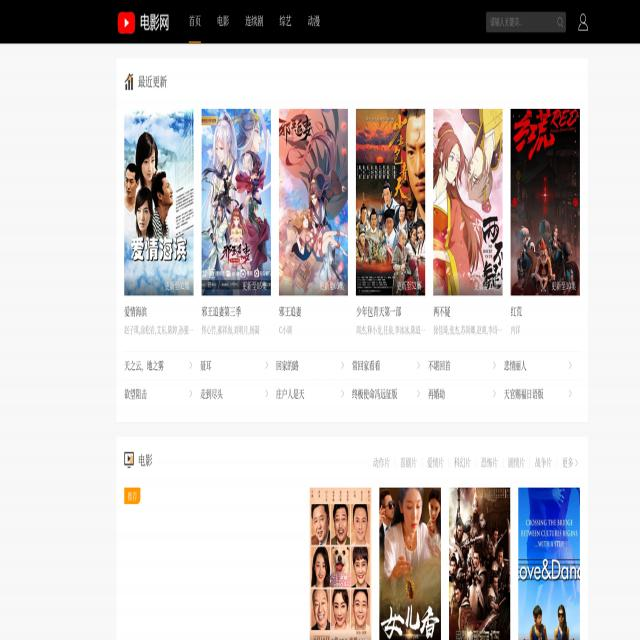button: (510, 109, 580, 295), (124, 109, 194, 295), (201, 109, 271, 295), (356, 109, 426, 295), (433, 109, 503, 295), (279, 109, 348, 295), (448, 485, 510, 640), (518, 486, 580, 640), (379, 486, 440, 640), (310, 487, 371, 640), (116, 3, 177, 40), (504, 351, 580, 379), (200, 351, 276, 379), (276, 351, 352, 379), (504, 380, 580, 408), (124, 380, 200, 408), (200, 380, 276, 408), (276, 380, 352, 408), (352, 380, 428, 408), (428, 380, 504, 408), (124, 351, 200, 378), (352, 351, 428, 378), (428, 351, 504, 378), (239, 0, 269, 41), (182, 0, 208, 43), (302, 0, 326, 41), (274, 0, 297, 41), (212, 0, 234, 41), (575, 10, 592, 35), (554, 11, 566, 32), (124, 73, 134, 91), (124, 452, 134, 469)
field: (486, 11, 566, 32)
